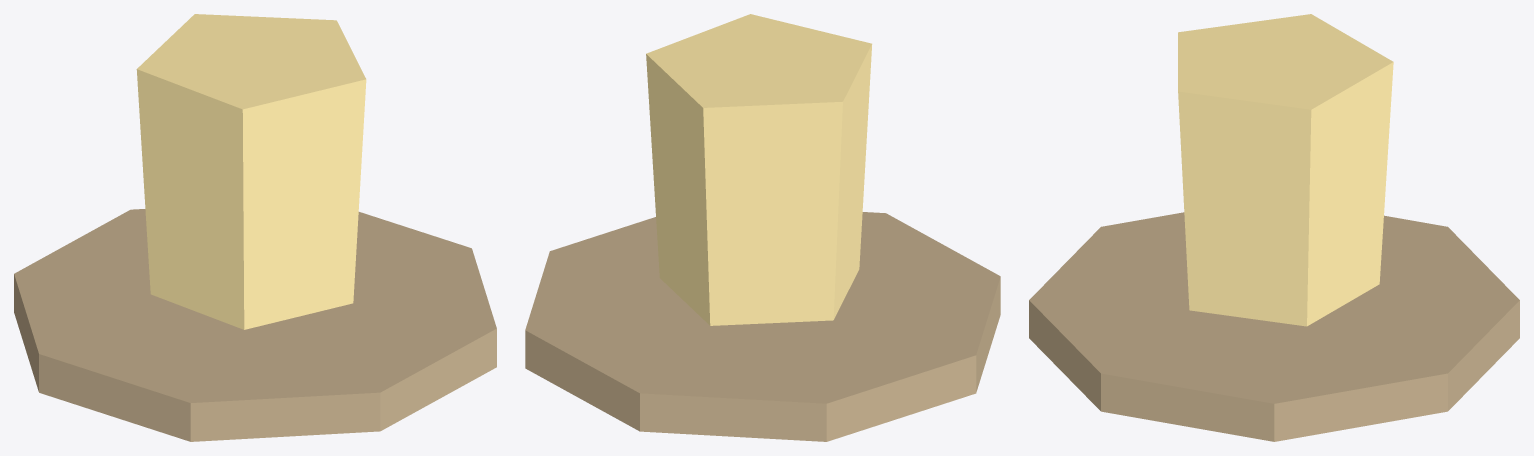
Rendered from SM_CocinaCampana_v1_Lena_LOD1.fbx.
3 views of the same model, side by side, from view 1: azimuth 30°, elevation 25°; view 2: azimuth 150°, elevation 25°; view 3: azimuth 270°, elevation 25° (orthographic).
Visible parts, largest first — view 1: Emision; view 2: Emision; view 3: Emision.
Boxes of the visible parts, x1=… form: Emision: x1=14, y1=14, x2=496, y2=441; Emision: x1=525, y1=14, x2=1000, y2=441; Emision: x1=1029, y1=14, x2=1519, y2=441.
Size of what is drawn, in the model's own units: 0.7 by 0.435 by 0.7.
